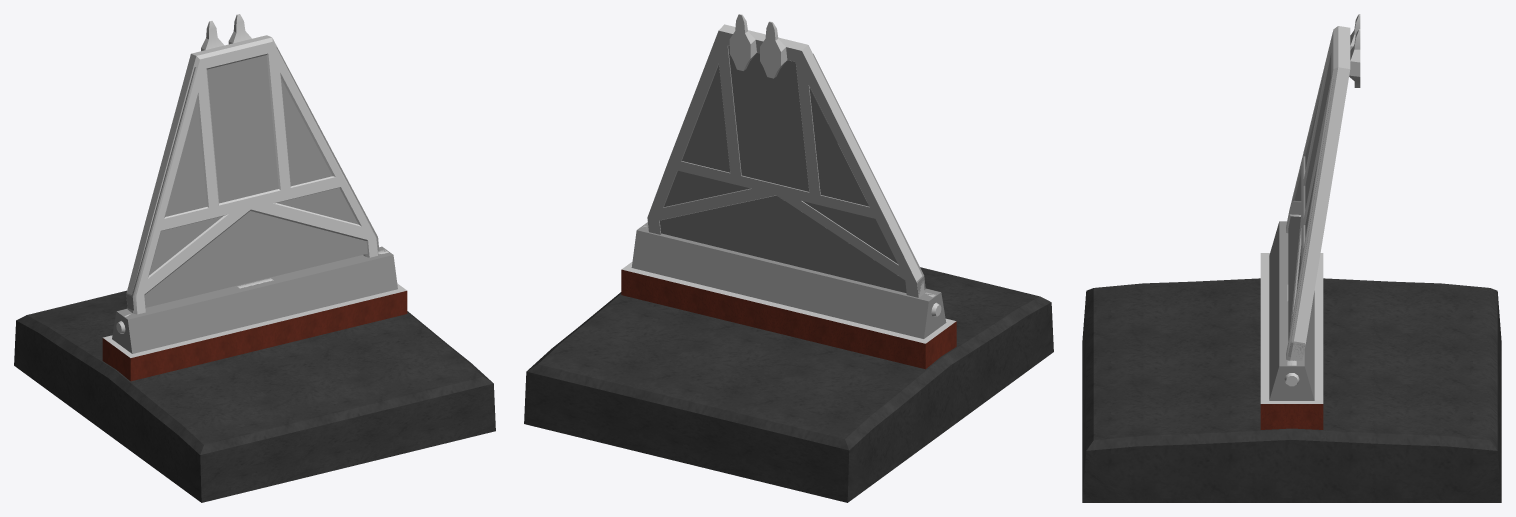
Rendered from Launch_Clamp_Atlas.FBX.
The picture shows the model from 3 angles, left to right: view 1: azimuth 30°, elevation 25°; view 2: azimuth 150°, elevation 25°; view 3: azimuth 270°, elevation 25°; orthographic projection. The views are drawn at different scales.
Parts seen in each view (by area): view 1: Atlas_Base, Atlas_Clamp_Col, Atlas_Clamp, Atlas_Cap_Hinge_Col, Atlas_Tower, Atlas_Cap_Hinge; view 2: Atlas_Base, Atlas_Clamp_Col, Atlas_Clamp, Atlas_Cap_Hinge_Col, Atlas_Tower, Atlas_Cap_Hinge; view 3: Atlas_Base, Atlas_Clamp, Atlas_Cap_Hinge_Col, Atlas_Cap_Hinge, Atlas_Clamp_Col, Atlas_Tower.
Part boxes in pixels (x1,y1,x2,y2): Atlas_Base: [14, 290, 495, 502]; Atlas_Clamp_Col: [126, 47, 379, 310]; Atlas_Clamp: [126, 14, 378, 314]; Atlas_Cap_Hinge_Col: [112, 246, 397, 353]; Atlas_Tower: [102, 291, 407, 381]; Atlas_Cap_Hinge: [103, 249, 406, 357]; Atlas_Base: [524, 267, 1053, 502]; Atlas_Clamp_Col: [660, 46, 925, 295]; Atlas_Clamp: [647, 14, 924, 297]; Atlas_Cap_Hinge_Col: [631, 222, 946, 338]; Atlas_Tower: [621, 269, 956, 369]; Atlas_Cap_Hinge: [621, 224, 956, 343]; Atlas_Base: [1082, 278, 1501, 502]; Atlas_Clamp: [1286, 14, 1360, 360]; Atlas_Cap_Hinge_Col: [1269, 221, 1314, 400]; Atlas_Cap_Hinge: [1260, 253, 1323, 403]; Atlas_Clamp_Col: [1288, 53, 1334, 357]; Atlas_Tower: [1260, 404, 1323, 429].
Bounding box in the file's own units: 315 × 366 × 348.
